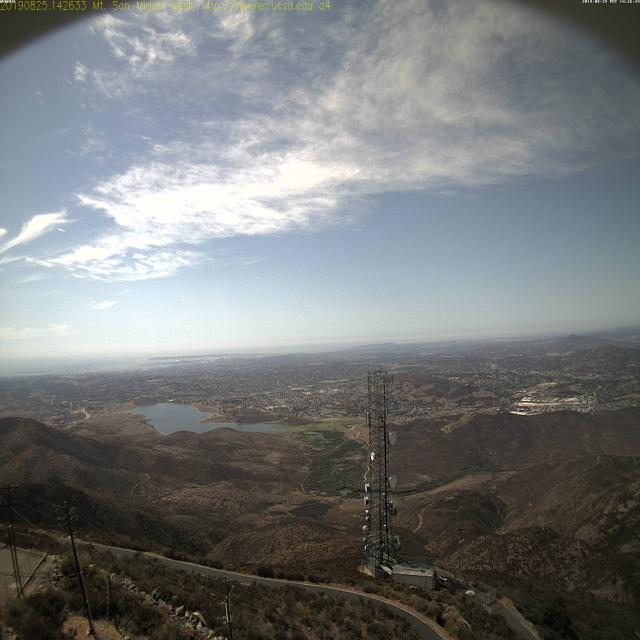smoke: (322, 352, 338, 366)
